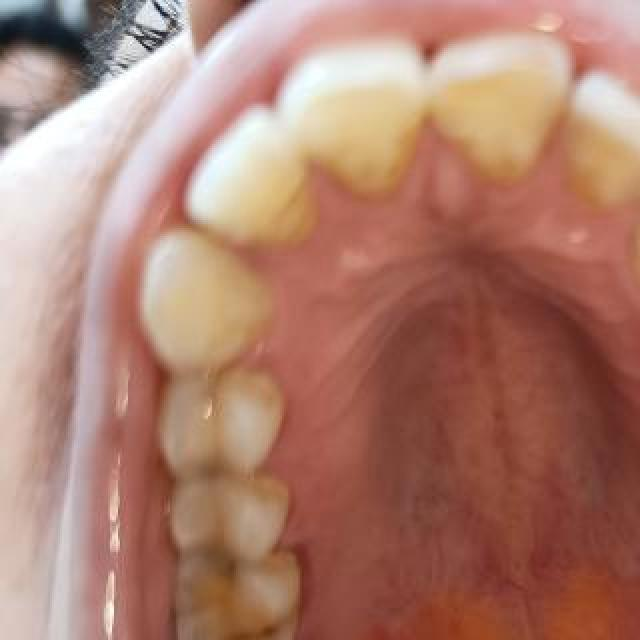calculus: (205, 362, 291, 468), (230, 473, 294, 553)
cavities: (236, 540, 308, 640)
stains: (308, 115, 426, 227), (438, 106, 530, 216), (556, 120, 640, 232), (236, 174, 330, 264)
